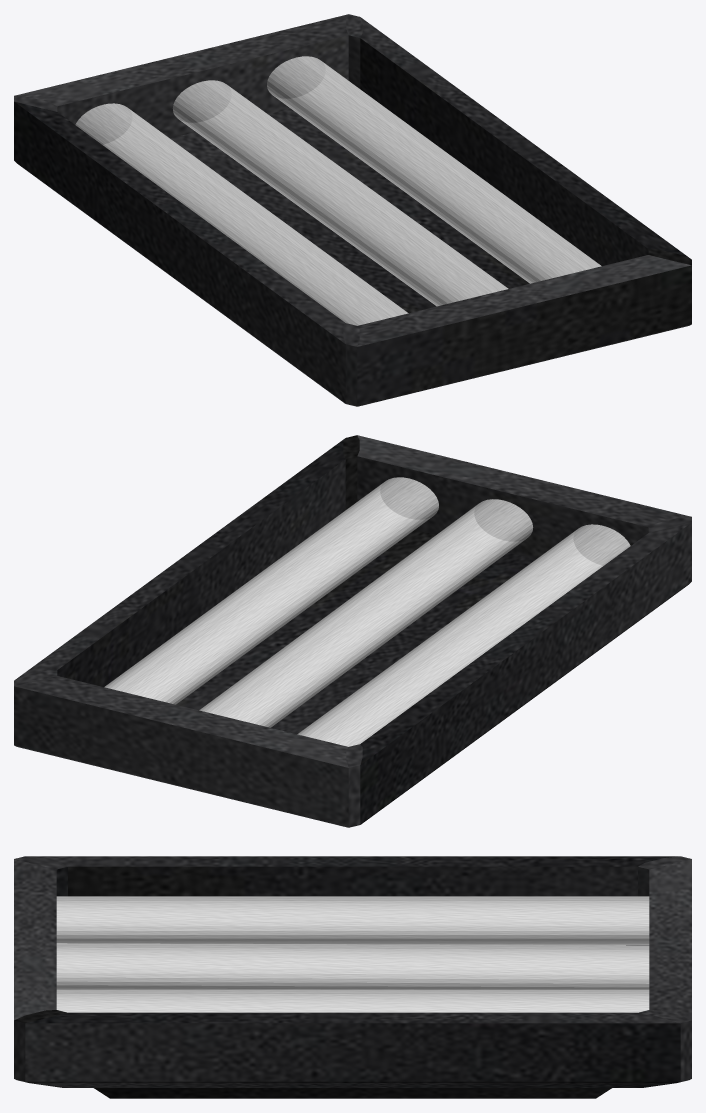
Rendered from Luminárias.fbx.
3 renders of one model, top to bottom at view 1: azimuth 30°, elevation 25°; view 2: azimuth 150°, elevation 25°; view 3: azimuth 270°, elevation 25°, orthographic.
Parts seen in each view (by area): view 1: CORPO LUMINARIA, LAMPADA 1, LAMPADA 2, LAMPADA 3; view 2: CORPO LUMINARIA, LAMPADA 2, LAMPADA 1, LAMPADA 3; view 3: CORPO LUMINARIA, LAMPADA 3, LAMPADA 2, LAMPADA 1.
Part boxes in pixels (box(x1,y1,x2,y2)): CORPO LUMINARIA: box(14, 14, 691, 406); LAMPADA 1: box(267, 56, 601, 283); LAMPADA 2: box(172, 80, 508, 306); LAMPADA 3: box(75, 103, 408, 325); CORPO LUMINARIA: box(14, 435, 691, 827); LAMPADA 2: box(199, 499, 533, 727); LAMPADA 1: box(104, 477, 438, 704); LAMPADA 3: box(297, 524, 630, 746); CORPO LUMINARIA: box(14, 856, 691, 1098); LAMPADA 3: box(56, 896, 649, 944); LAMPADA 2: box(56, 943, 649, 989); LAMPADA 1: box(56, 989, 649, 1012).
Size of the model in its own units: 145 by 40.49 by 248.
Materials: 2 (2 with a texture image).
